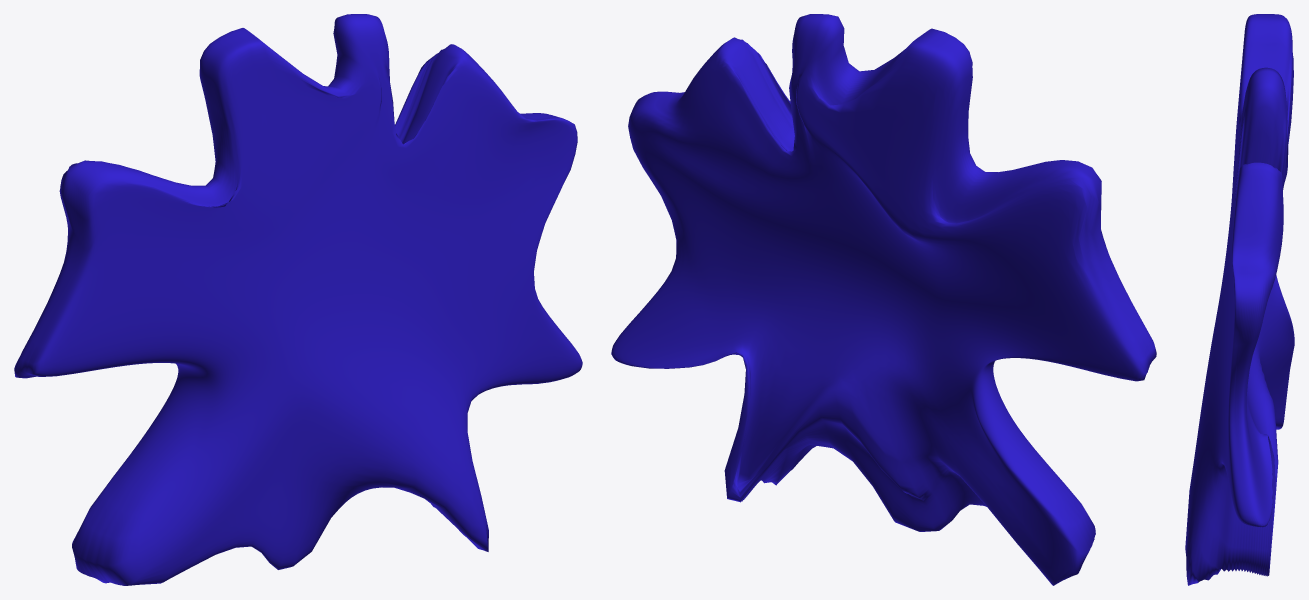
The model's file is StainSplat_Purple.fbx.
The picture shows the model from 3 angles, left to right: view 1: azimuth 30°, elevation 25°; view 2: azimuth 150°, elevation 25°; view 3: azimuth 270°, elevation 25°; orthographic projection. The views are drawn at different scales.
Visible parts, largest first — view 1: Box011; view 2: Box011; view 3: Box011.
Part boxes in pixels (<box>): Box011: <box>14,14,582,585</box>; Box011: <box>611,14,1156,585</box>; Box011: <box>1185,14,1294,585</box>.
Size of the model in its own units: 15.34 by 14.11 by 2.92.
